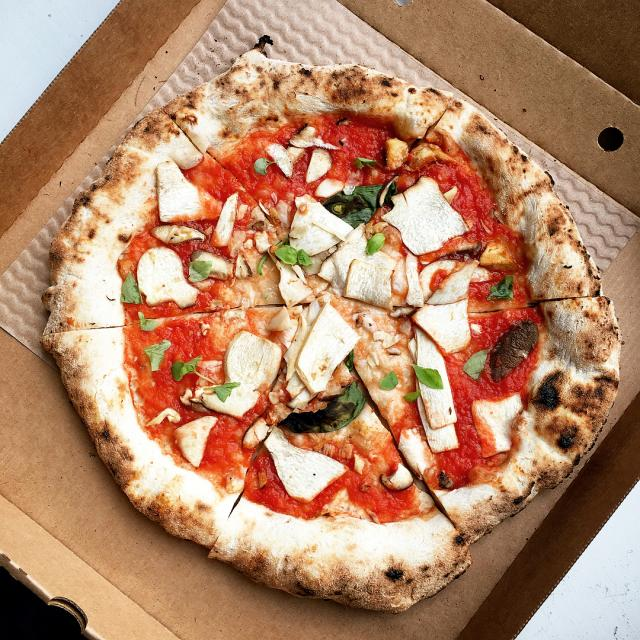basil: (412, 363, 444, 390), (463, 350, 489, 381), (146, 340, 170, 372), (172, 359, 201, 380), (488, 276, 512, 300), (121, 276, 141, 304), (366, 233, 386, 256), (189, 261, 210, 282), (208, 384, 237, 398), (379, 372, 400, 391), (275, 248, 298, 264), (298, 249, 312, 266)
mushrooms: (200, 330, 283, 417), (380, 177, 470, 254), (295, 304, 360, 394), (267, 430, 347, 502), (415, 324, 458, 430), (319, 226, 393, 286), (157, 164, 222, 222), (291, 198, 353, 255), (471, 394, 523, 456), (411, 304, 472, 356), (488, 319, 538, 381), (340, 259, 397, 313), (416, 386, 459, 454), (424, 260, 483, 305), (172, 414, 220, 468), (274, 265, 312, 305), (212, 193, 239, 248), (398, 432, 432, 473), (258, 140, 293, 178), (403, 251, 424, 308), (194, 251, 232, 279), (294, 127, 338, 151), (305, 147, 331, 184), (154, 226, 207, 244), (382, 463, 414, 488), (242, 419, 267, 447), (234, 255, 250, 278)
pizza: (37, 34, 625, 615)
